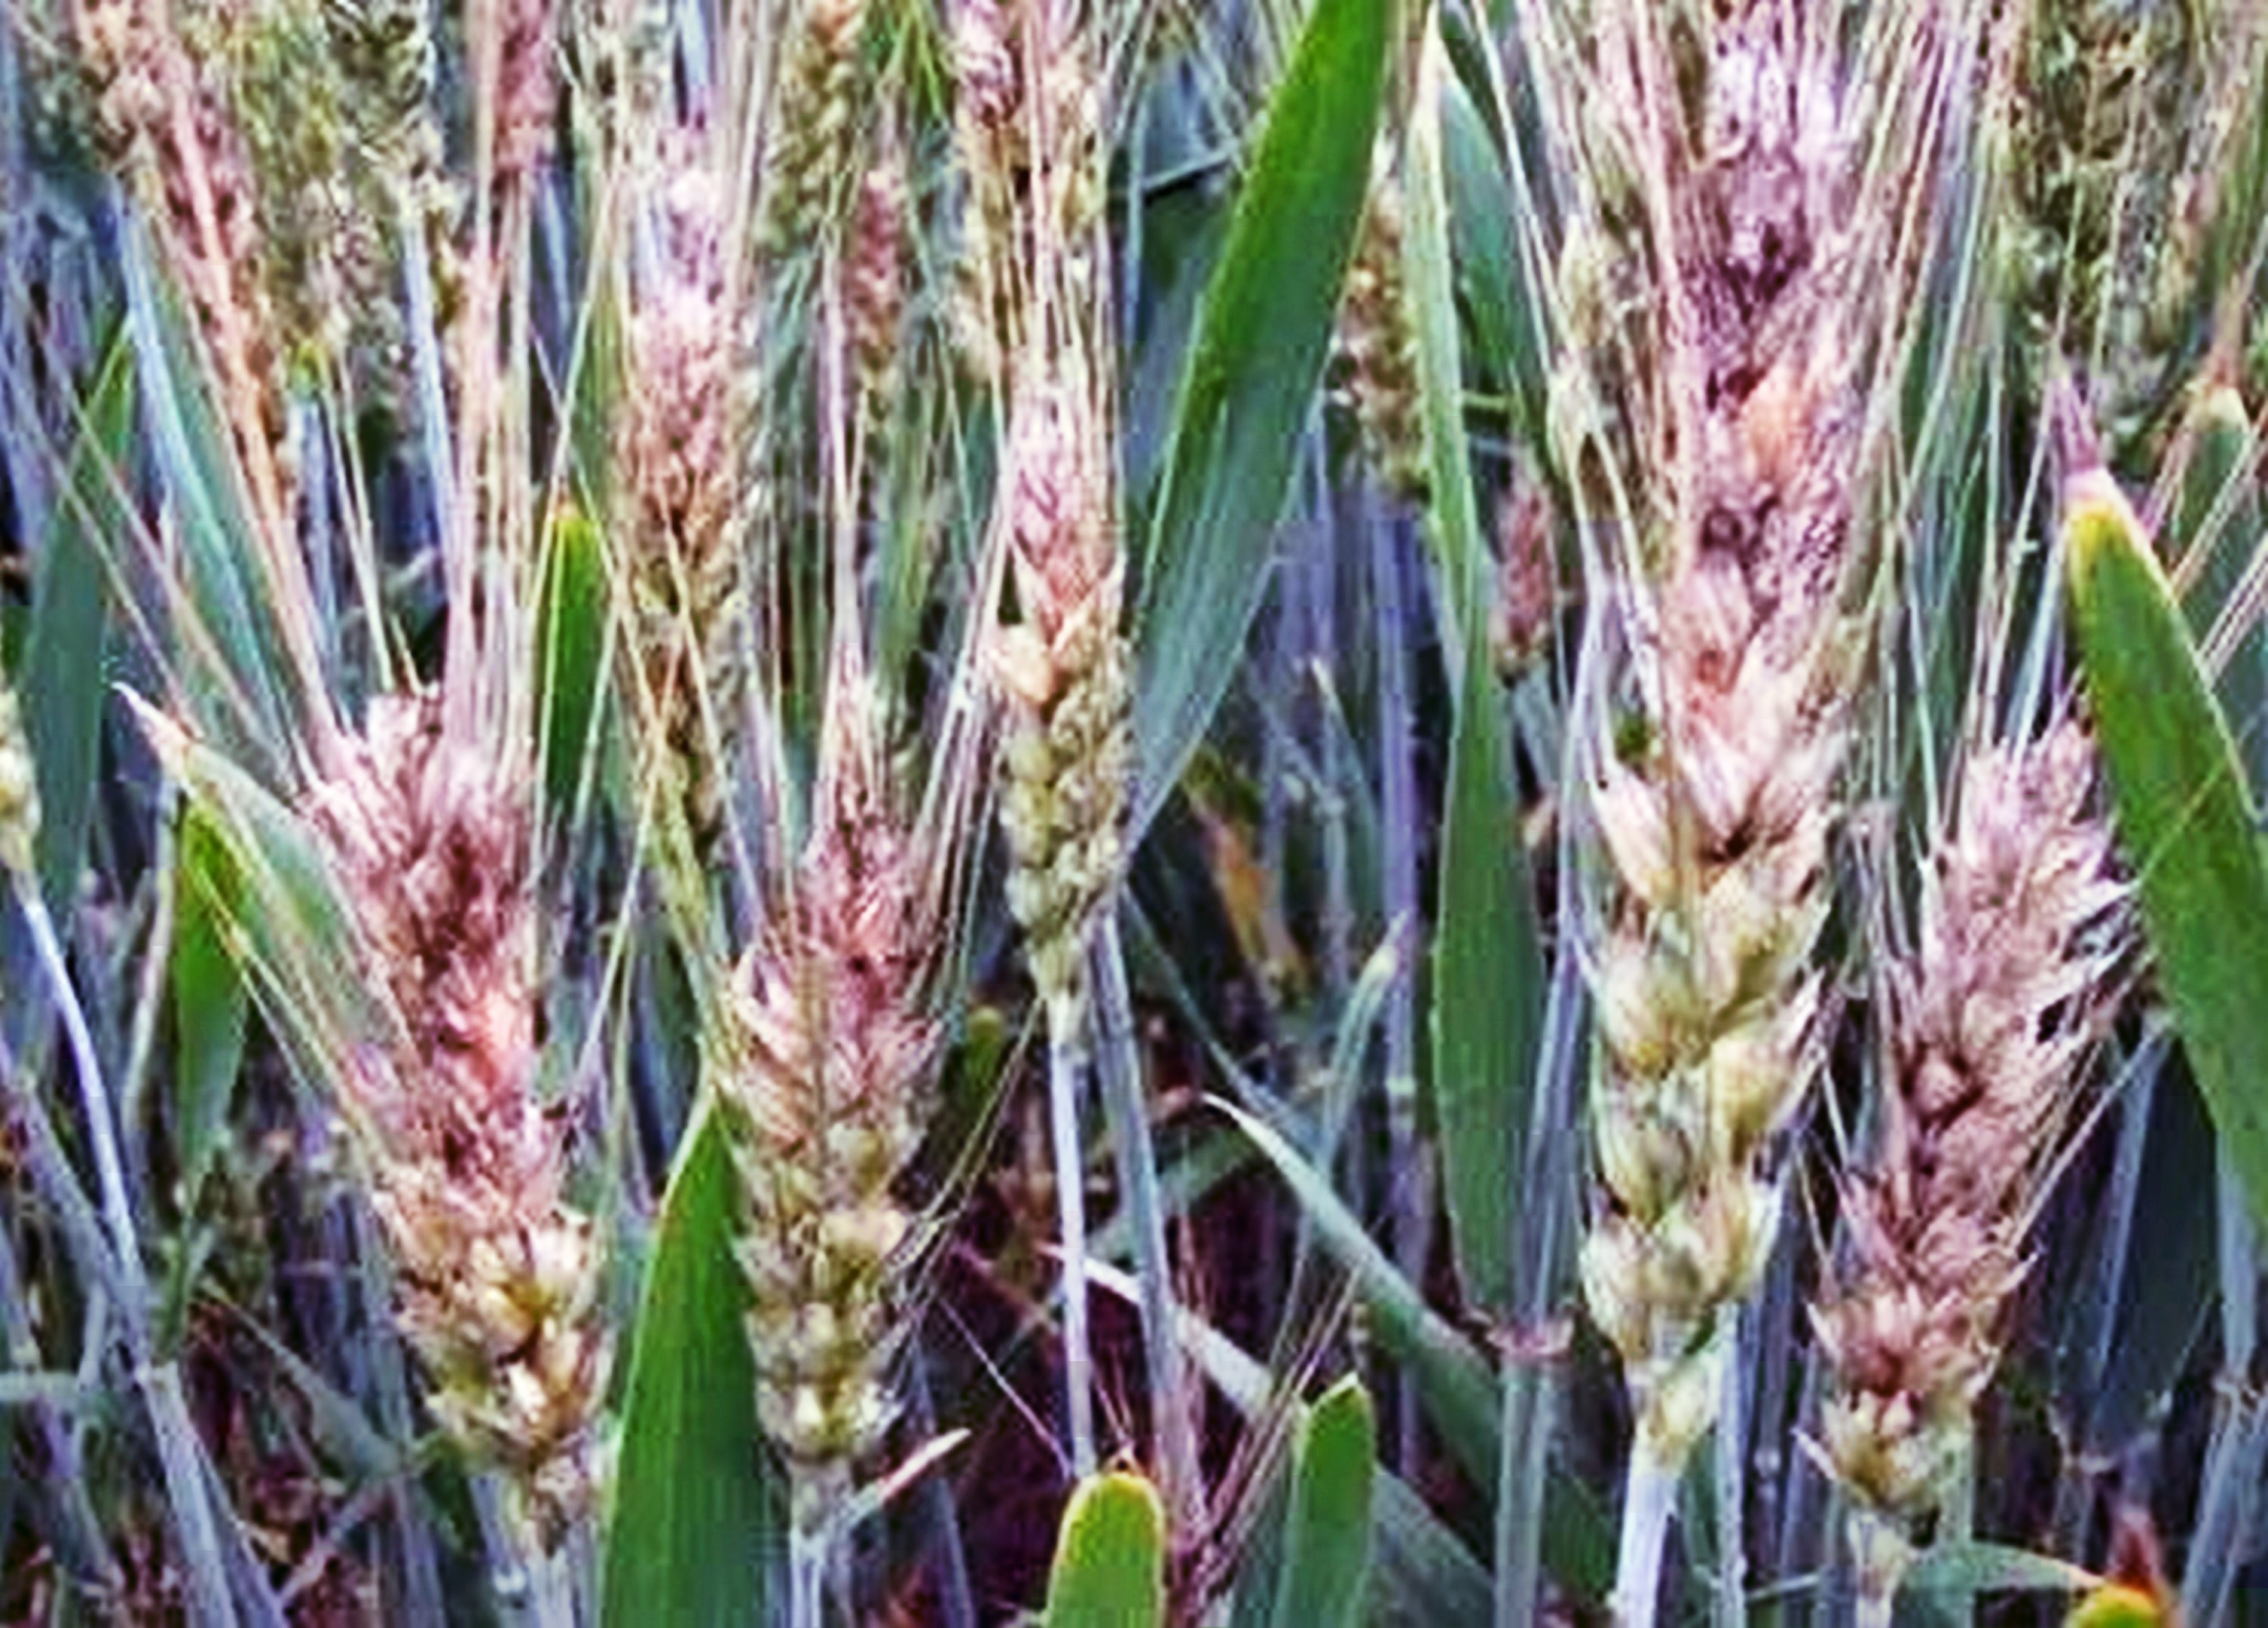Wheat scab: (1812, 691, 2183, 1506), (310, 682, 643, 1513), (710, 736, 951, 1531), (972, 407, 1160, 1050)
